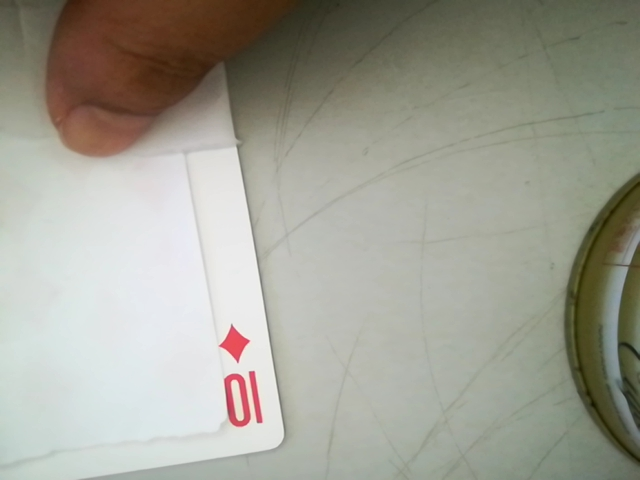fk 10: (201, 313, 273, 439)
